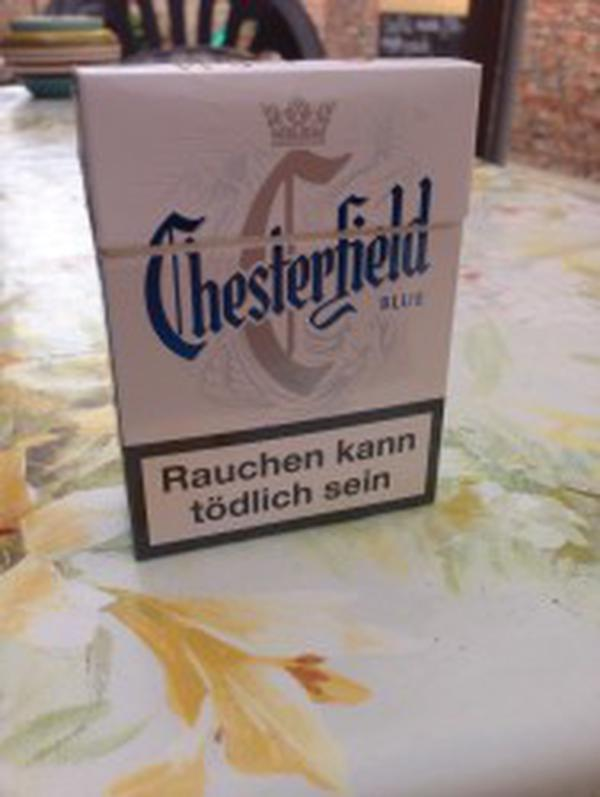chesterfield_blue: (125, 68, 439, 530)
